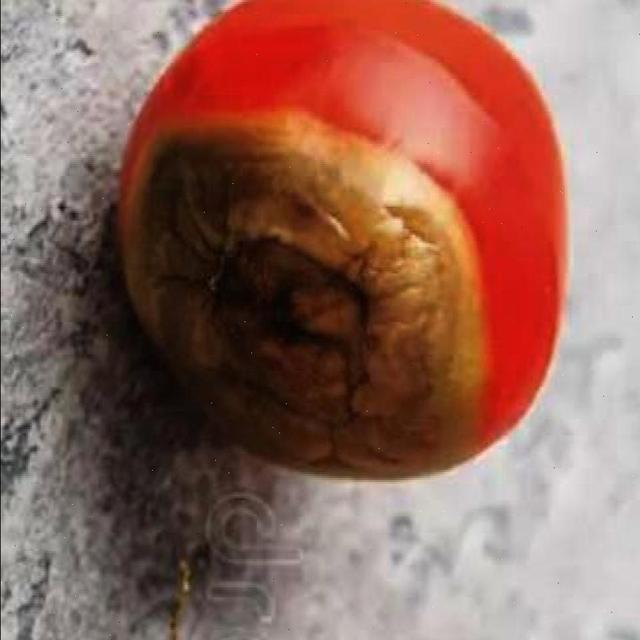Blossom End Rot Fruit: (82, 72, 328, 319)
